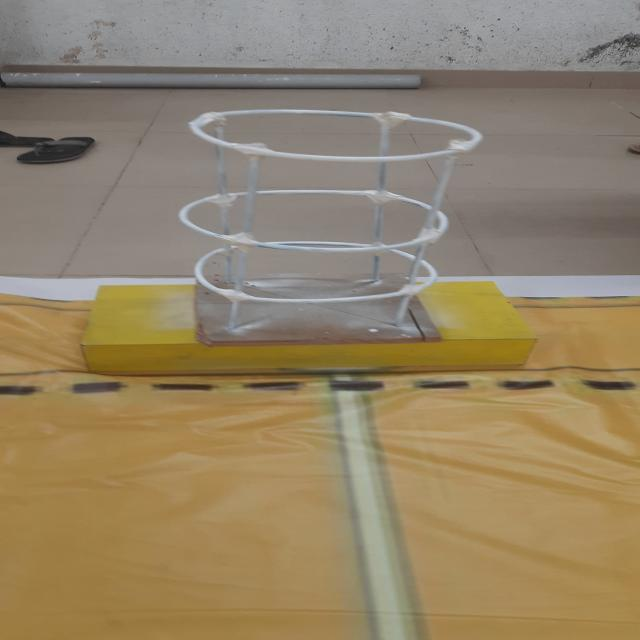silo: (119, 93, 480, 349)
